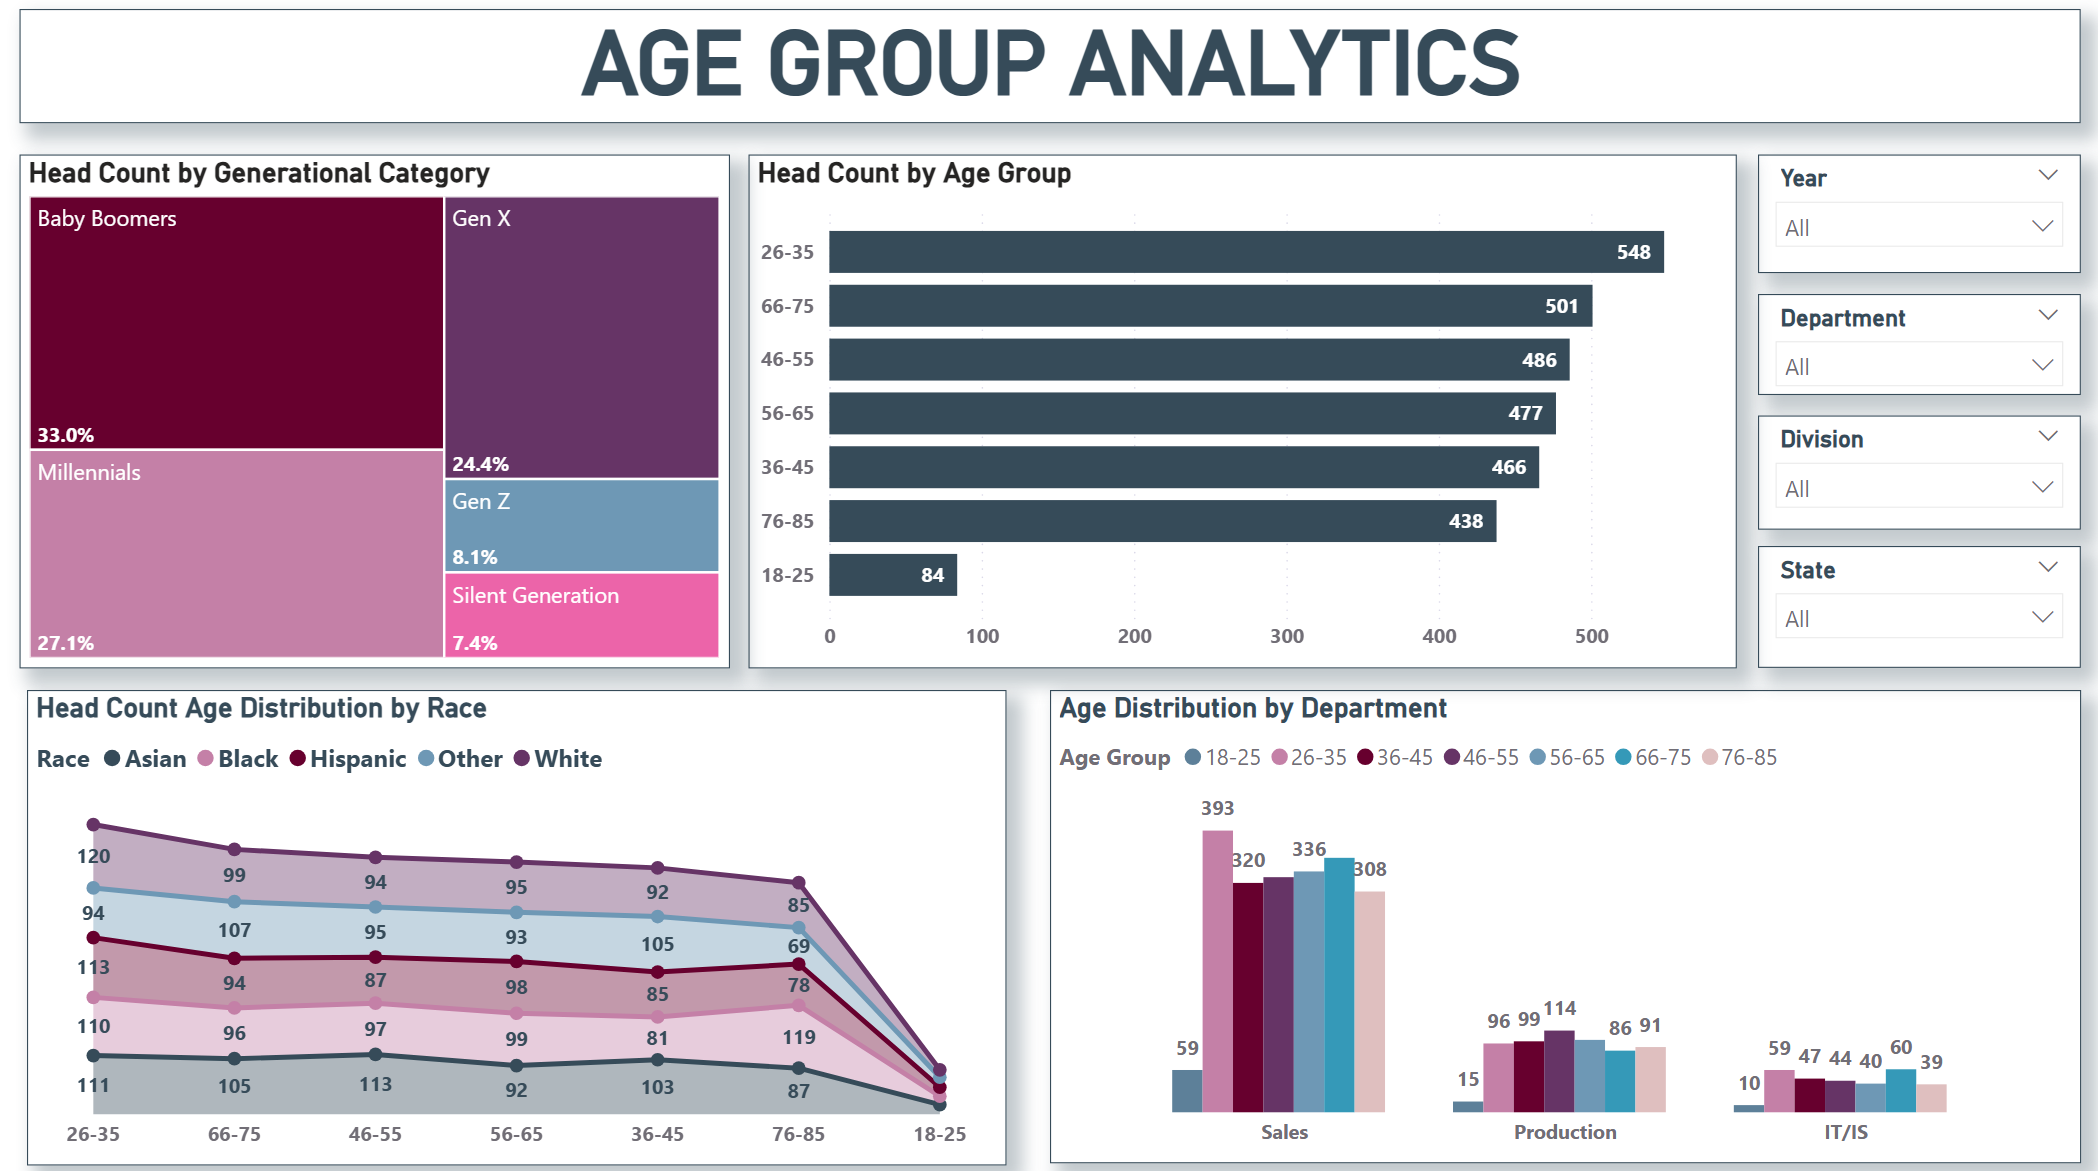

The dashboard page shown, as its layout file describes it:
{"tool":"powerbi","page":{"name":"Age Group","canvas":[1280,720],"ordinal":1},"visuals":[{"type":"clusteredColumnChart","title":"Age Distribution by Department","fields":{"Y":["KPI_TABLE.Total Employees"],"Category":["DIM_ORGANIZATION.DepartmentType"],"Series":["DIM_EMPLOYEE.Age Group"]},"box":[639.6,422.9,625.7,287.4],"z":0},{"type":"slicer","fields":{"Values":["DIM_DATE.Year"]},"box":[1069.5,97.3,195.8,71.8],"z":1000},{"type":"slicer","fields":{"Values":["DIM_ORGANIZATION.DepartmentType"]},"box":[1069.5,181.9,195.8,61.4],"z":2000},{"type":"slicer","fields":{"Values":["DIM_ORGANIZATION.Division"]},"box":[1069.5,256.1,195.8,69.5],"z":3000},{"type":"textbox","title":"AGE GROUP ANALYTICS ","box":[13.9,9.3,1251.4,69.5],"z":4000},{"type":"slicer","fields":{"Values":["DIM_LOCATION.State"]},"box":[1069.5,334.9,195.8,74.2],"z":5000},{"type":"clusteredBarChart","title":"Head Count by Age Group","fields":{"Category":["DIM_EMPLOYEE.Age Group"],"Y":["KPI_TABLE.Total Employees"]},"box":[456.5,97.3,600.2,311.7],"z":6000},{"type":"treemap","title":"Head Count by Generational Category","fields":{"Group":["DIM_EMPLOYEE.Generational Category"],"Values":["KPI_TABLE.Percentage_of_Generational Category"]},"box":[13.9,97.3,431,311.7],"z":7000},{"type":"stackedAreaChart","title":"Head Count Age Distribution by Race","fields":{"Category":["DIM_EMPLOYEE.Age Group"],"Series":["DIM_EMPLOYEE.Race"],"Y":["KPI_TABLE.Total Employees"]},"box":[18.5,422.9,594.4,288.5],"z":8000}]}

Visuals, with their boxes in screenshot pixels (x1, y1, x2, y2), scaled from the page's 1280x720 canvas onto the 2098x1171 screenshot:
"Age Distribution by Department" clusteredColumnChart: box=[1048, 688, 2074, 1155]
slicer - DIM_DATE.Year: box=[1753, 158, 2074, 275]
slicer - DIM_ORGANIZATION.DepartmentType: box=[1753, 296, 2074, 396]
slicer - DIM_ORGANIZATION.Division: box=[1753, 417, 2074, 530]
"AGE GROUP ANALYTICS " textbox: box=[23, 15, 2074, 128]
slicer - DIM_LOCATION.State: box=[1753, 545, 2074, 665]
"Head Count by Age Group" clusteredBarChart: box=[748, 158, 1732, 665]
"Head Count by Generational Category" treemap: box=[23, 158, 729, 665]
"Head Count Age Distribution by Race" stackedAreaChart: box=[30, 688, 1005, 1157]
